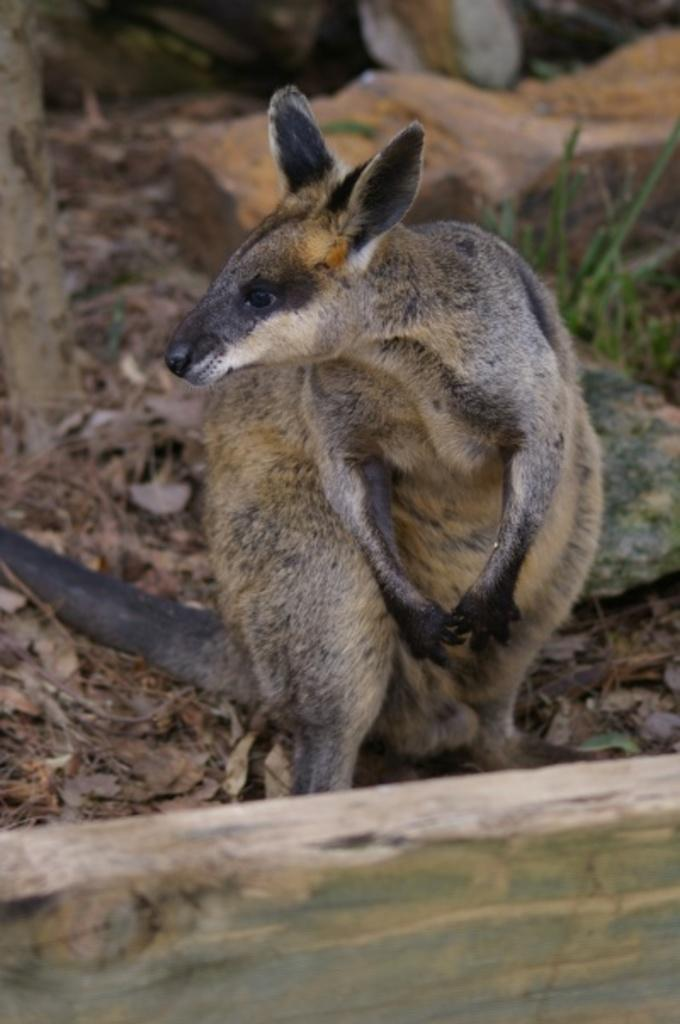kangaroo: (0, 85, 614, 803)
